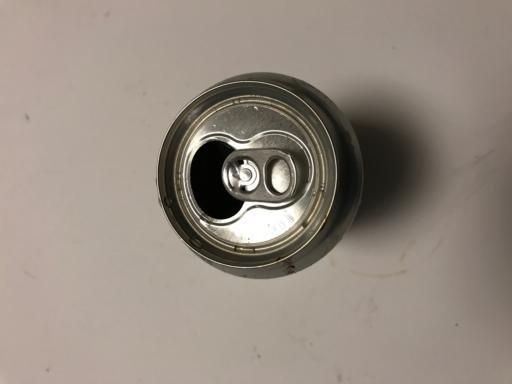kaleng: (156, 73, 366, 280)
